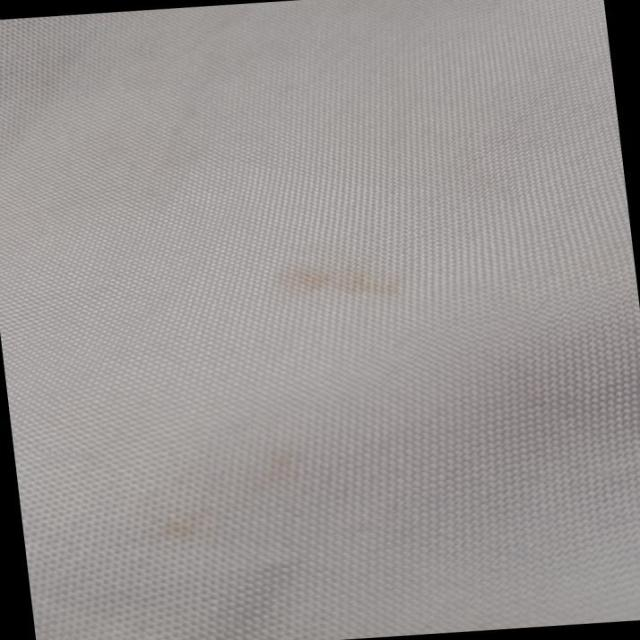stain: (142, 444, 332, 545), (272, 236, 407, 313)
